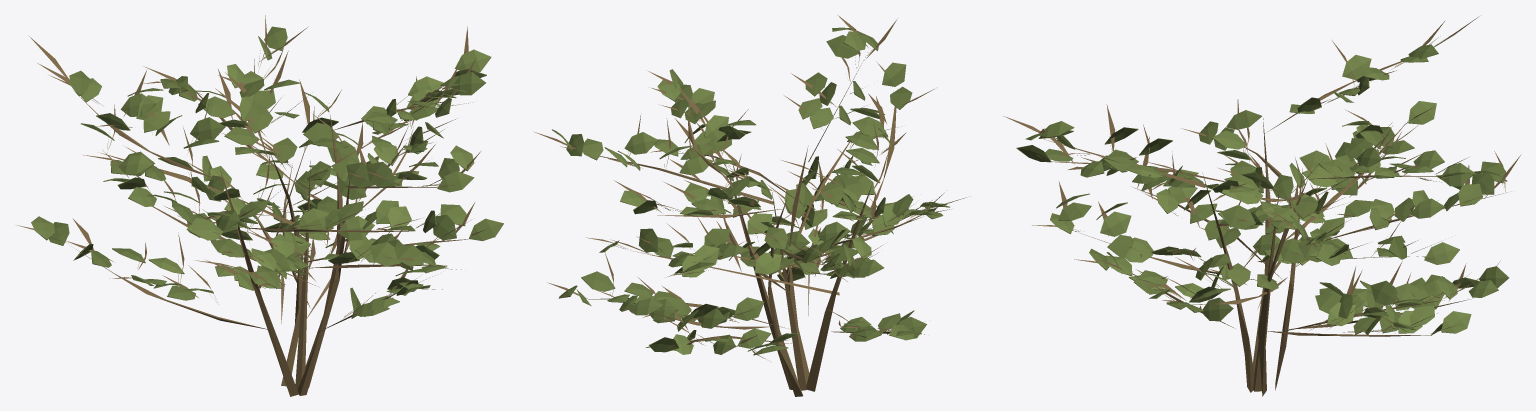
Rendered from Lentisque_0_LOD2.fbx.
3 renders of one model, left to right at view 1: azimuth 30°, elevation 25°; view 2: azimuth 150°, elevation 25°; view 3: azimuth 270°, elevation 25°, orthographic. The views are drawn at different scales.
Visible parts, largest first — view 1: Lentisque_0_LOD2; view 2: Lentisque_0_LOD2; view 3: Lentisque_0_LOD2.
Part boxes in pixels (bbox=[...]): Lentisque_0_LOD2: bbox=[16, 15, 503, 396]; Lentisque_0_LOD2: bbox=[533, 15, 966, 396]; Lentisque_0_LOD2: bbox=[1003, 16, 1520, 396].
Size of the model in its own units: 241 by 162 by 251.
